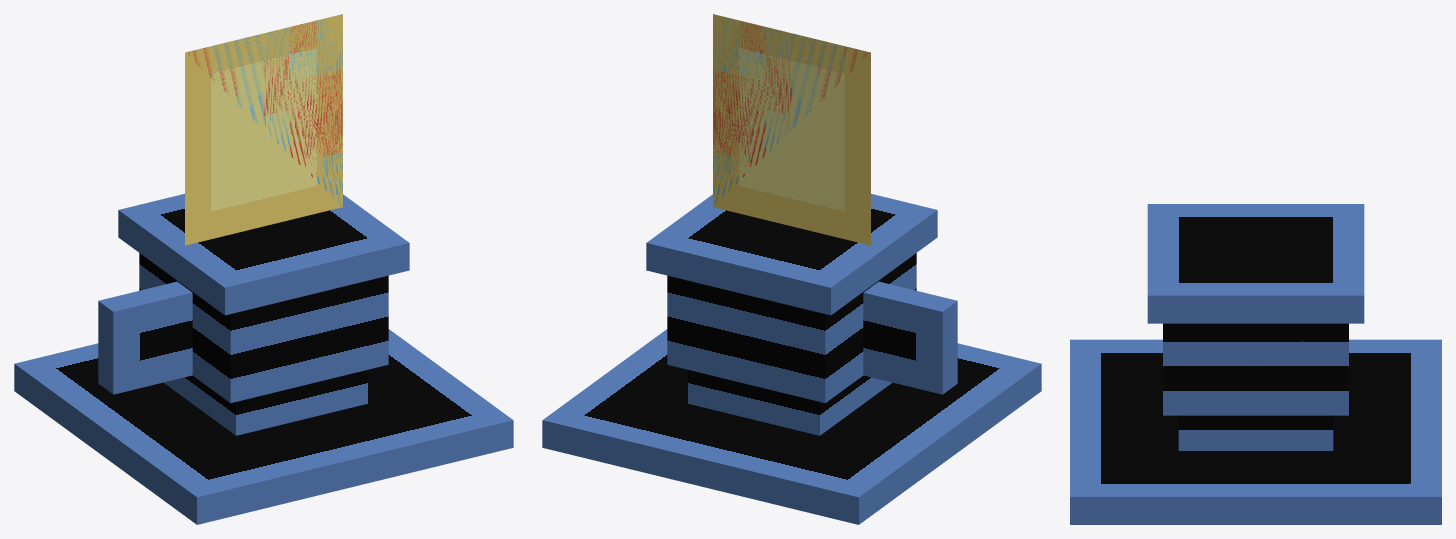
Rendered from java_cup.obj.
The picture shows the model from 3 angles, left to right: view 1: azimuth 30°, elevation 25°; view 2: azimuth 150°, elevation 25°; view 3: azimuth 270°, elevation 25°; orthographic projection.
Visible parts, largest first — view 1: mesh; view 2: mesh; view 3: mesh.
Part boxes in pixels (x1=…): mesh: x1=14, y1=14, x2=513, y2=524; mesh: x1=542, y1=14, x2=1041, y2=524; mesh: x1=1070, y1=204, x2=1441, y2=524.
Bounding box in the file's own units: 0.75 × 0.875 × 0.75.
Materials: 1 (1 with a texture image).
